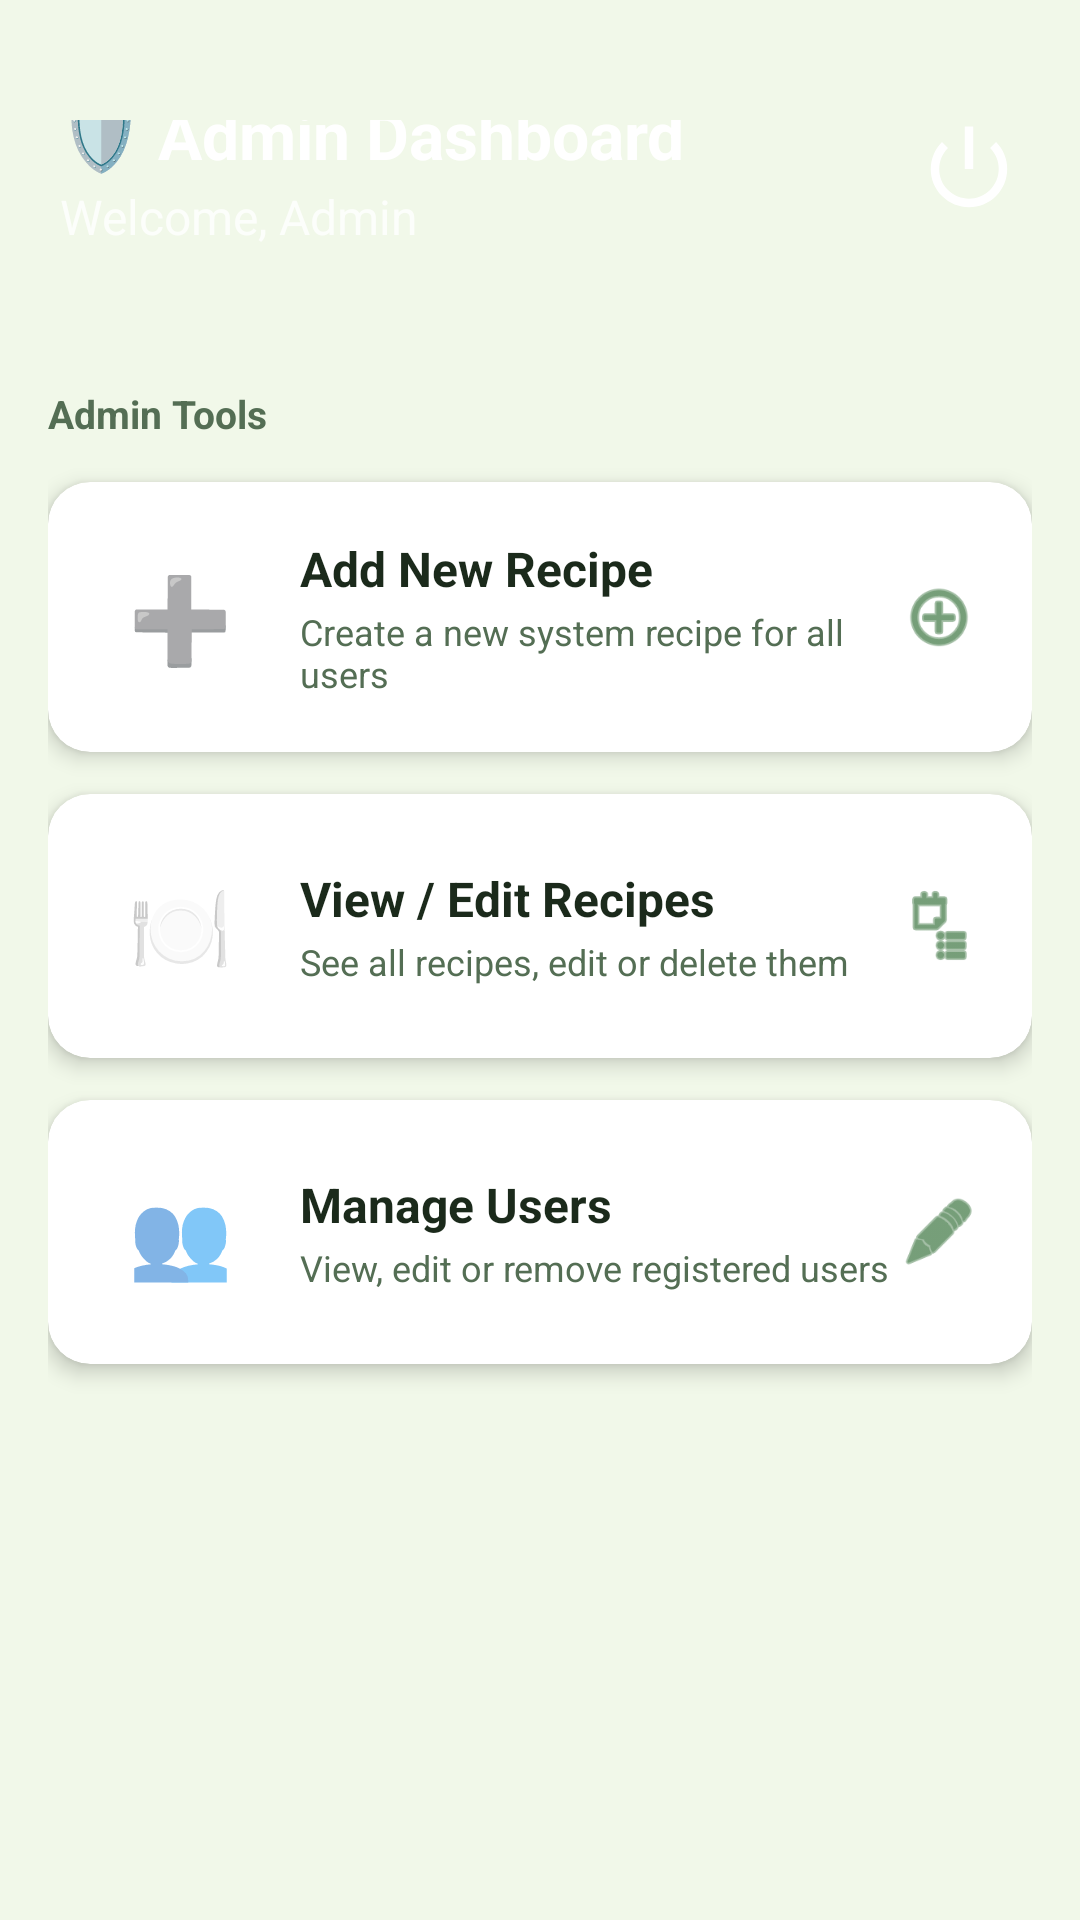

Named icons in this screenshot (1080x1920) and their bounding boxes, (x1, y1, x2, y2):
add: (910, 588, 968, 646)
agenda: (912, 891, 967, 960)
